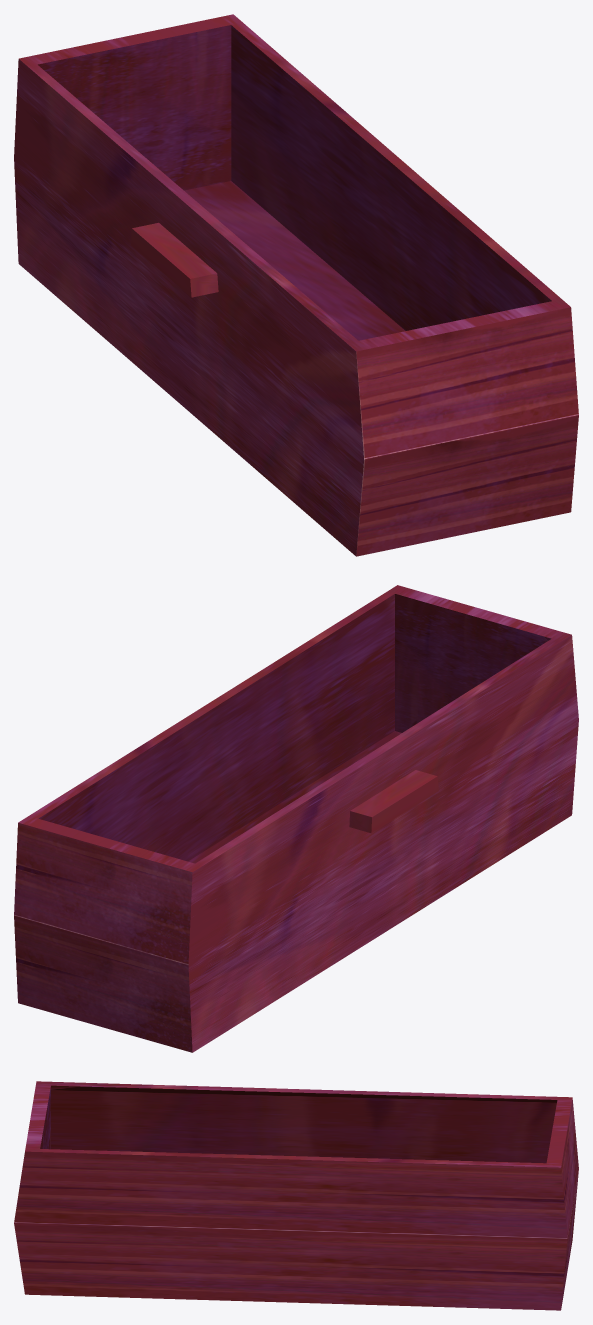
The model's file is EscritorioL_cajon2.glb.
3 renders of one model, top to bottom at view 1: azimuth 30°, elevation 25°; view 2: azimuth 150°, elevation 25°; view 3: azimuth 270°, elevation 25°, orthographic. The views are drawn at different scales.
Visible parts, largest first — view 1: E_escritorioL_cajon2; view 2: E_escritorioL_cajon2; view 3: E_escritorioL_cajon2.
Part boxes in pixels (bbox=[...]): E_escritorioL_cajon2: bbox=[14, 14, 578, 556]; E_escritorioL_cajon2: bbox=[14, 585, 578, 1052]; E_escritorioL_cajon2: bbox=[14, 1081, 578, 1310].
Size of the model in its own units: 1.59 by 1.2 by 4.3.
1 material, 1 textured.
